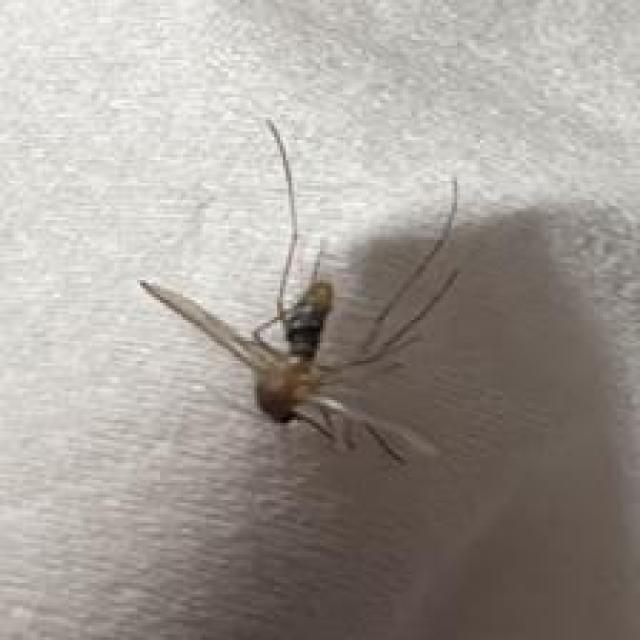Culex: (137, 116, 463, 467)
